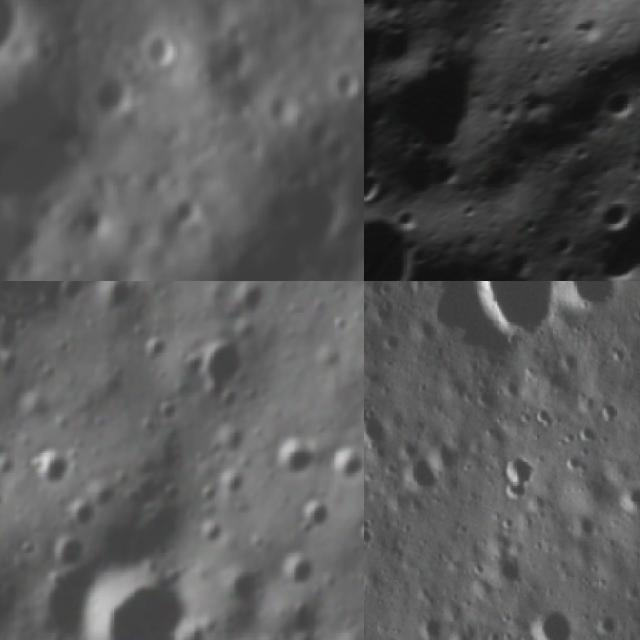crater: (368, 22, 524, 180), (372, 0, 640, 68), (73, 551, 198, 640), (447, 281, 570, 352), (364, 186, 439, 281), (18, 560, 104, 640), (189, 332, 251, 399), (581, 69, 640, 135), (587, 208, 640, 281), (458, 242, 545, 281), (268, 432, 327, 484), (552, 281, 625, 322), (23, 442, 78, 494), (591, 192, 640, 249), (290, 487, 338, 541), (492, 448, 540, 502), (523, 595, 580, 640), (91, 74, 136, 130), (217, 564, 264, 616), (0, 0, 33, 72), (403, 444, 446, 494), (46, 530, 94, 573), (229, 281, 274, 321), (92, 281, 139, 316), (364, 404, 396, 455), (536, 256, 600, 281), (280, 549, 317, 590), (138, 330, 174, 370), (137, 34, 184, 64), (171, 610, 217, 640), (66, 496, 102, 534), (330, 445, 364, 485), (213, 464, 248, 499), (190, 517, 225, 551), (210, 423, 244, 457), (335, 68, 363, 105), (154, 398, 180, 428), (171, 203, 198, 230), (355, 521, 364, 550)
